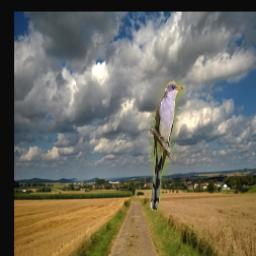Cuckoo: (151, 80, 184, 211)
